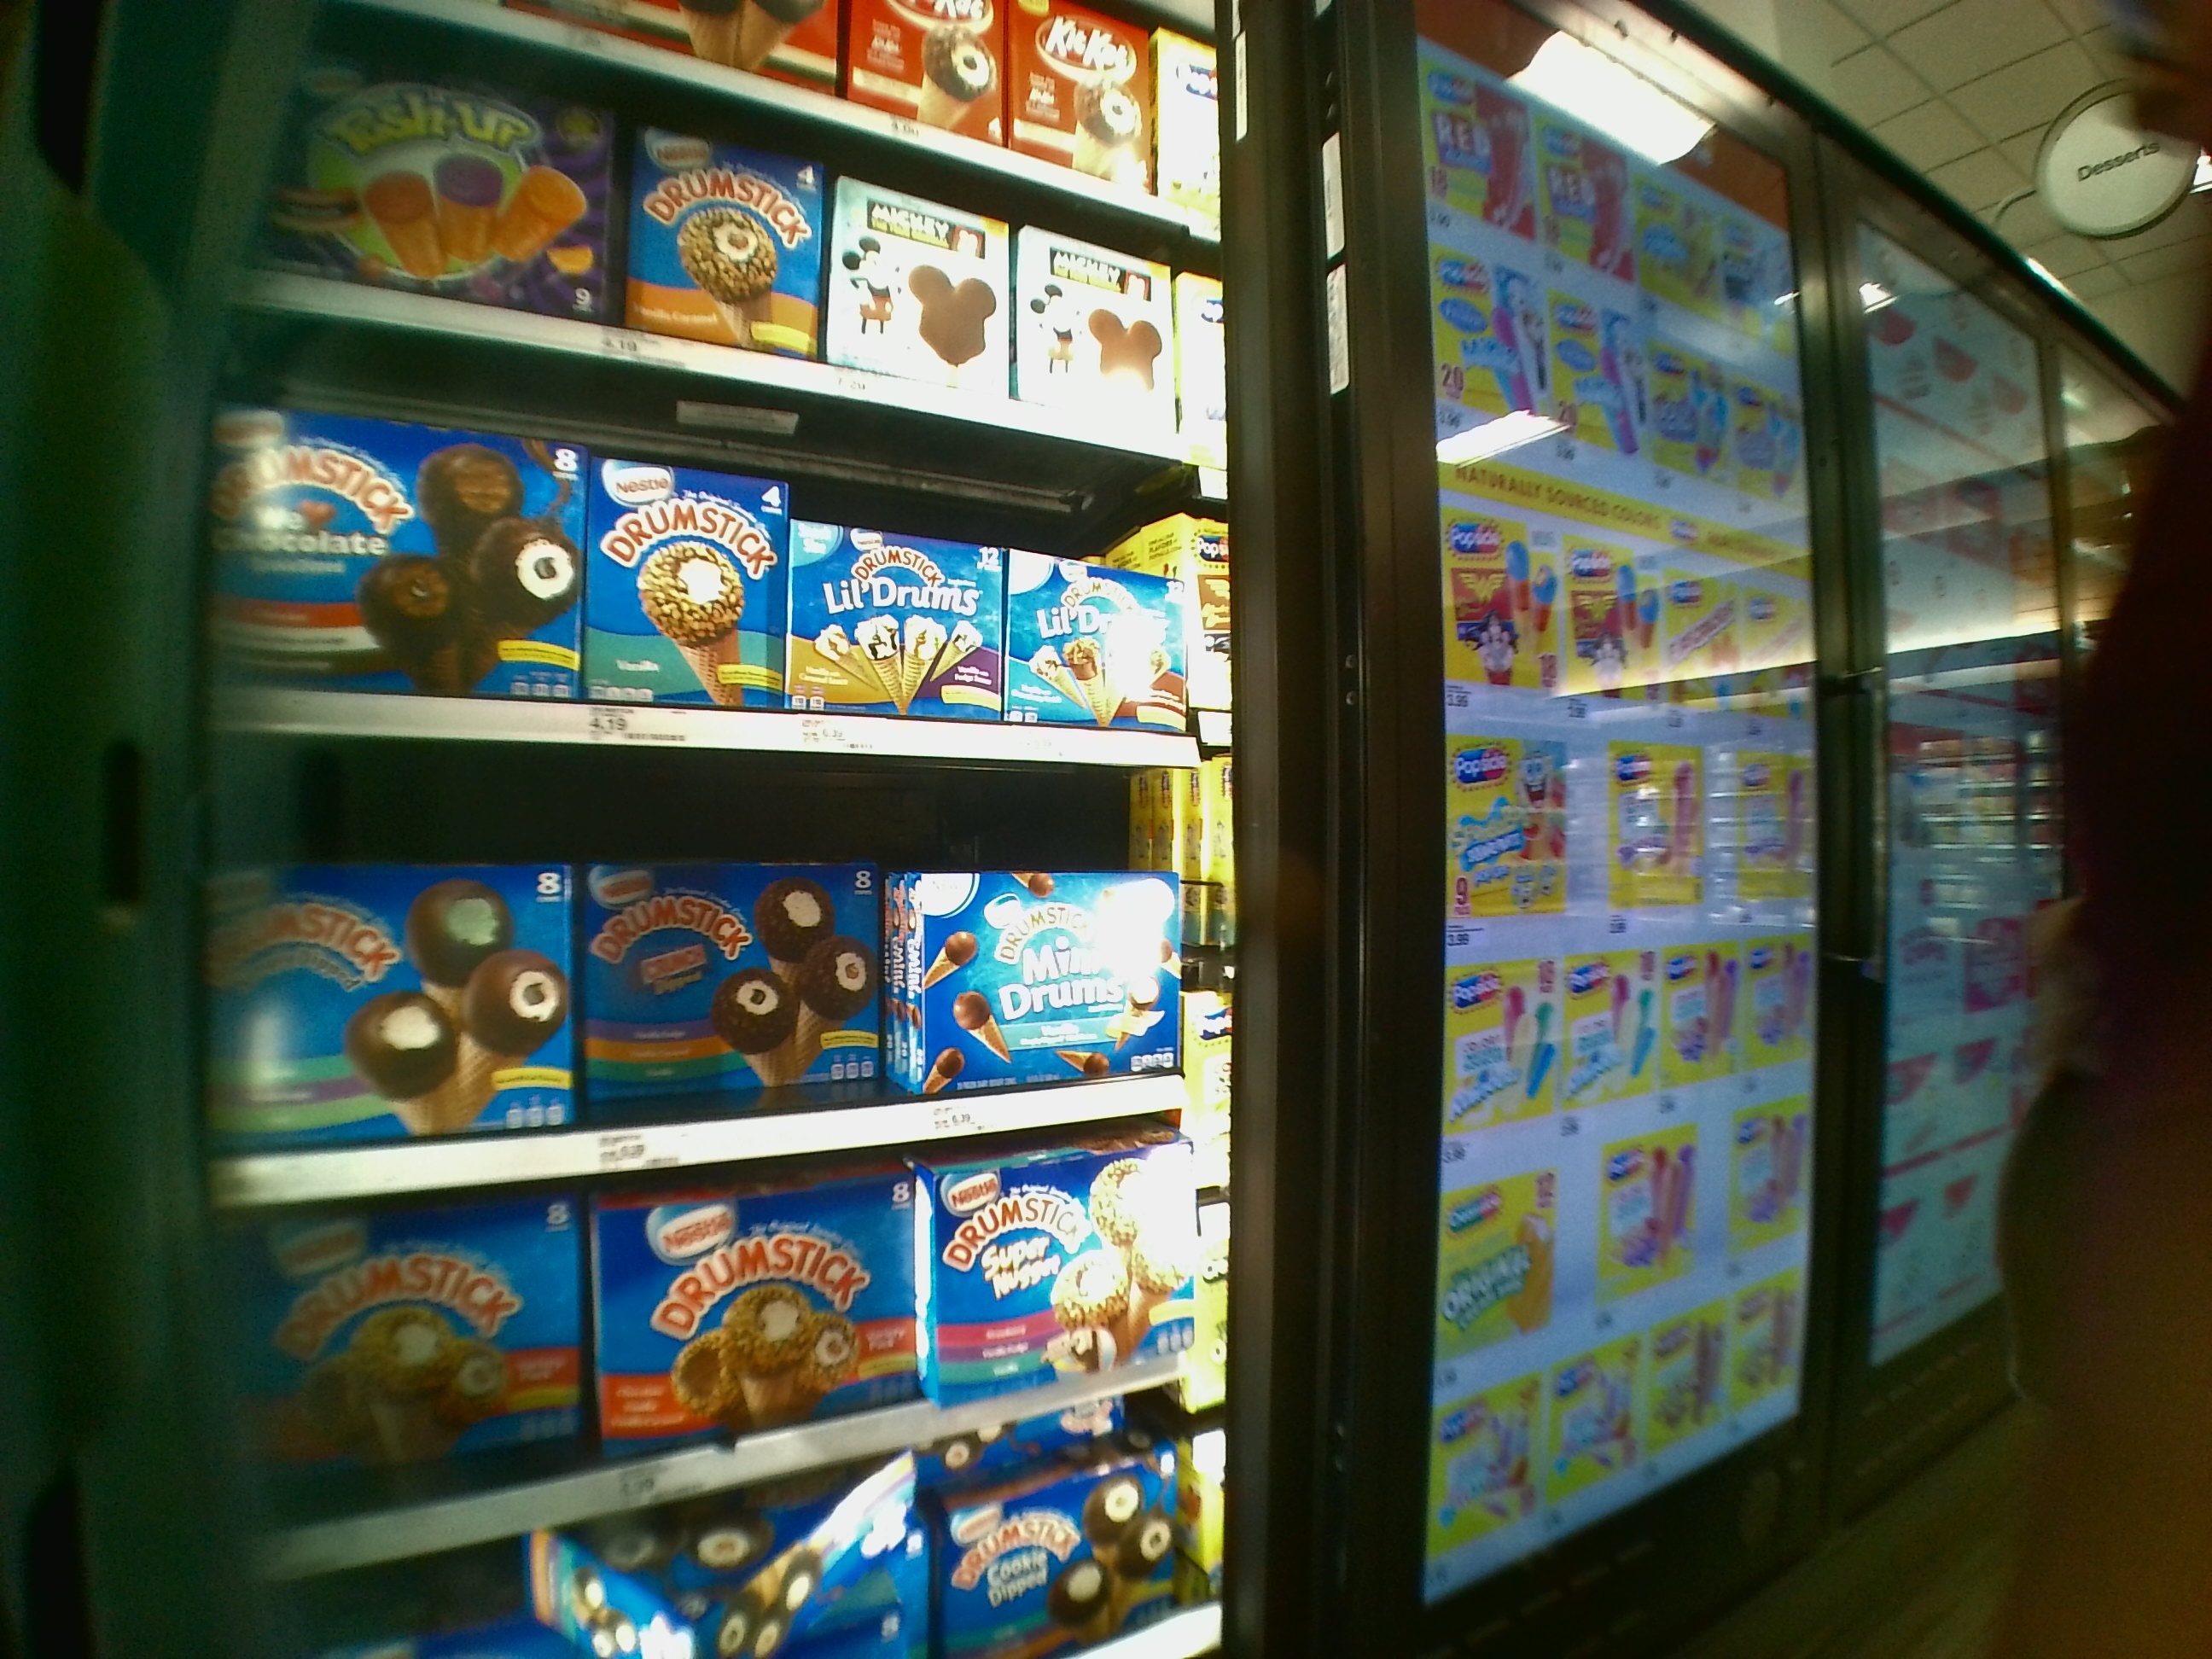shelf: (206, 763, 1221, 1171), (211, 1147, 1221, 1492), (186, 413, 1219, 748)
